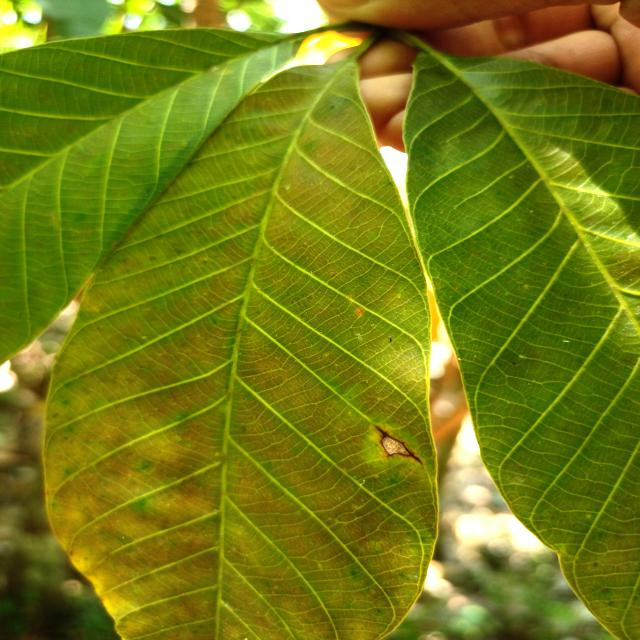Corynespora: (372, 424, 422, 464)
Leaf-Blight: (382, 436, 410, 454)
